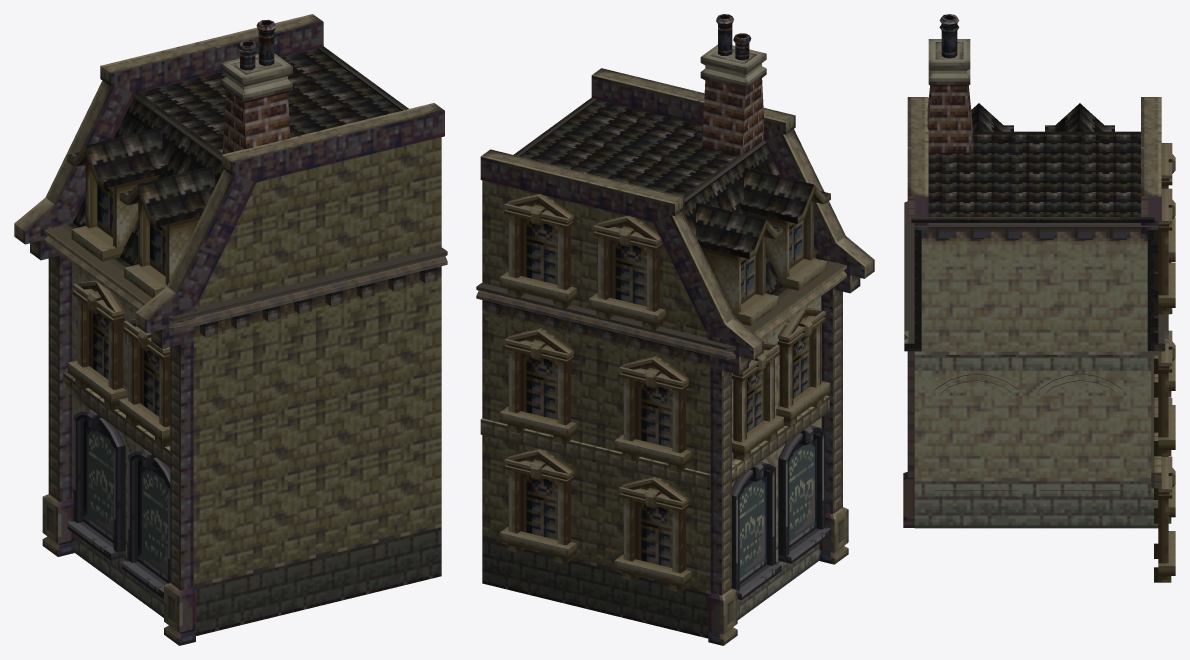
Rendered from EnvBdgMD_City_B_Outdoor_L_E.FBX.
The picture shows the model from 3 angles, left to right: view 1: azimuth 30°, elevation 25°; view 2: azimuth 150°, elevation 25°; view 3: azimuth 270°, elevation 25°; orthographic projection. The views are drawn at different scales.
Parts seen in each view (by area): view 1: EnvBdgMD_City_B_Outdoor_L_E; view 2: EnvBdgMD_City_B_Outdoor_L_E; view 3: EnvBdgMD_City_B_Outdoor_L_E.
Part boxes in pixels (x1,y1,x2,y2): EnvBdgMD_City_B_Outdoor_L_E: [14, 14, 447, 645]; EnvBdgMD_City_B_Outdoor_L_E: [476, 14, 874, 645]; EnvBdgMD_City_B_Outdoor_L_E: [903, 14, 1175, 582].
Bounding box in the file's own units: 477 × 880 × 391.
Materials: 1 (1 with a texture image).
